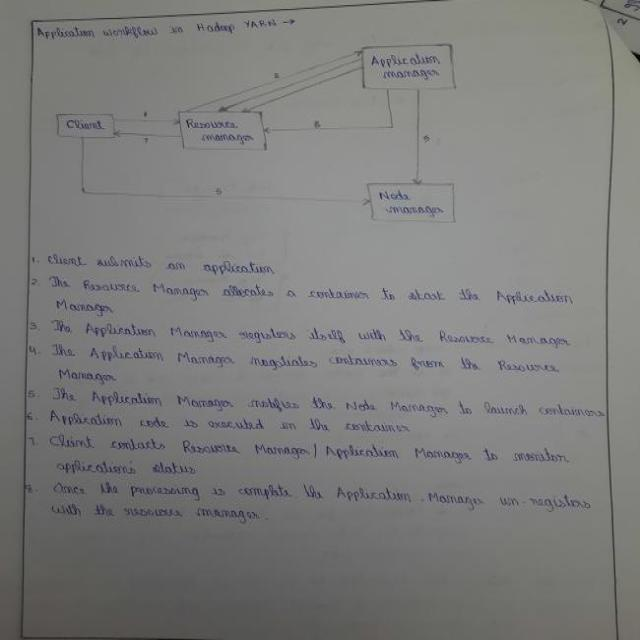Figure Detection - v3 Dataset Version2: (42, 37, 500, 234)
